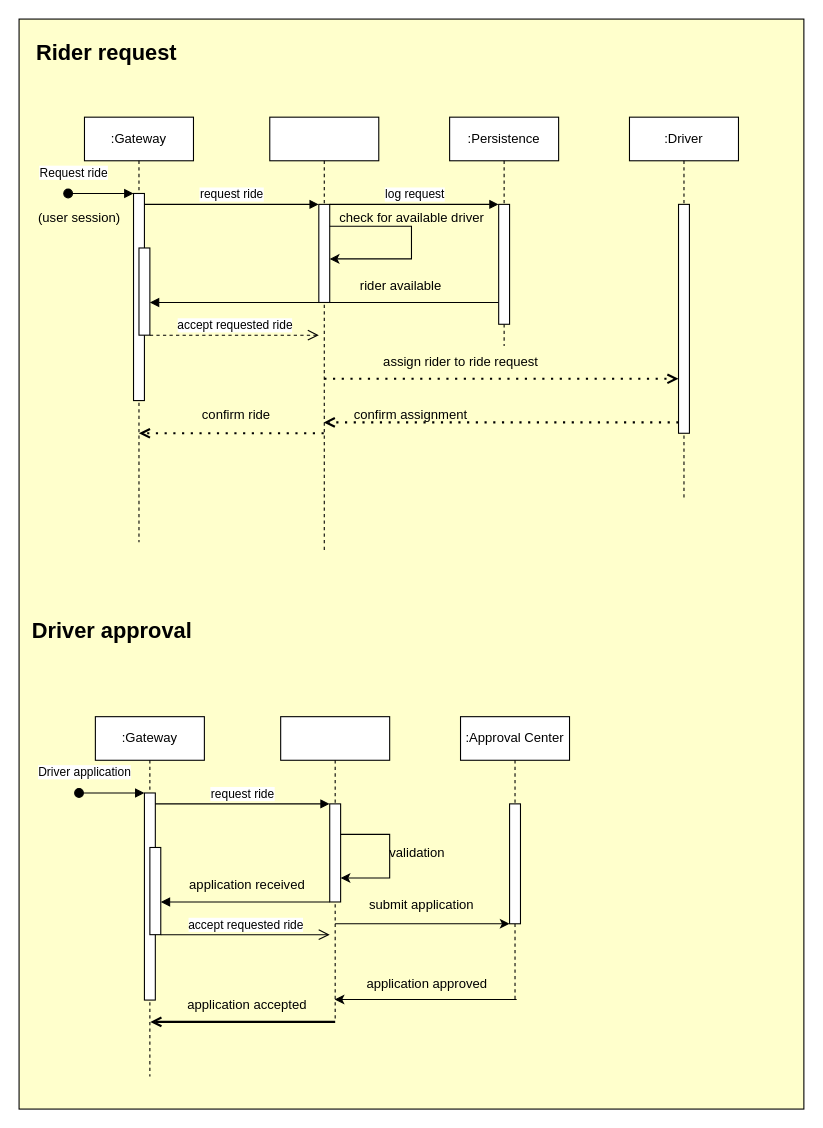
Image size: 823x1128. Some labels were removed from this diagram. The centre of each missing label's shape, as x and y in pixels:
:Application Service: the point at 335,869
:Logistics: the point at 324,334
